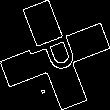P_E: (25, 29, 85, 81)
